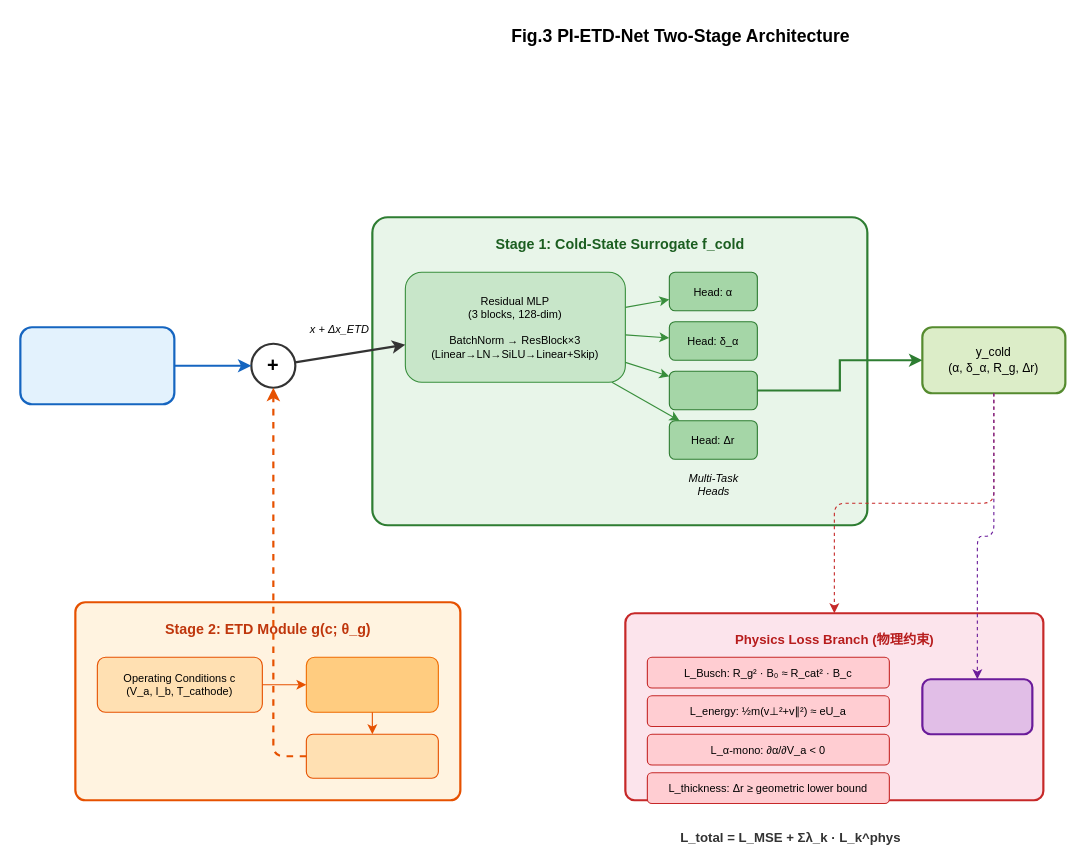
Image size: 1085x868. Some labels were removed from this diagram. Each missing label, with the centre of its shape:
Head: R_g: point (712, 390)
Input x (11-dim geometric parameters): point (97, 365)
L_MSE (Data Loss): point (977, 706)
MLP 3→32→32→11 + tanh + σ_scale: point (371, 684)
Δx_ETD (11-dim offset): point (371, 755)
